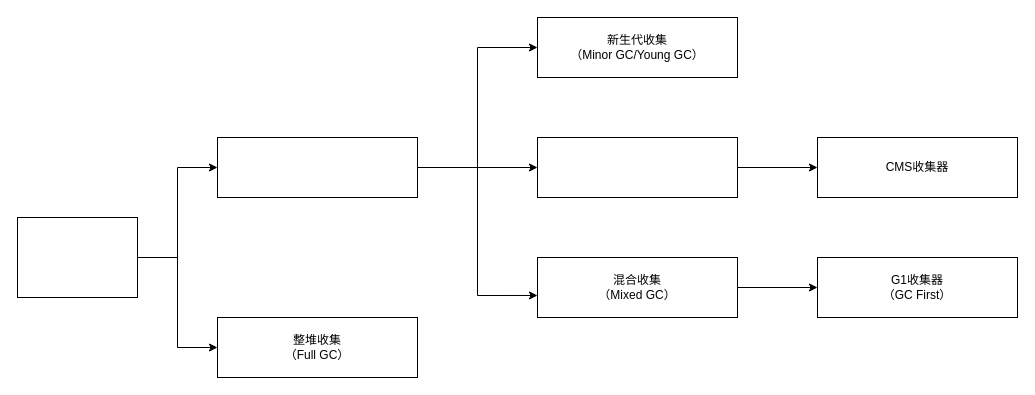
Some shapes in this 1035 by 395 pixel diagram are drawn without their labels. The centre of each missing label's shape, as x and y in pixels:
"垃圾收集" goes at pixel 77 257.
"老年代收集 （Major GC/Old GC）" goes at pixel 637 167.
"部分收集 （Partial GC）" goes at pixel 317 167.
